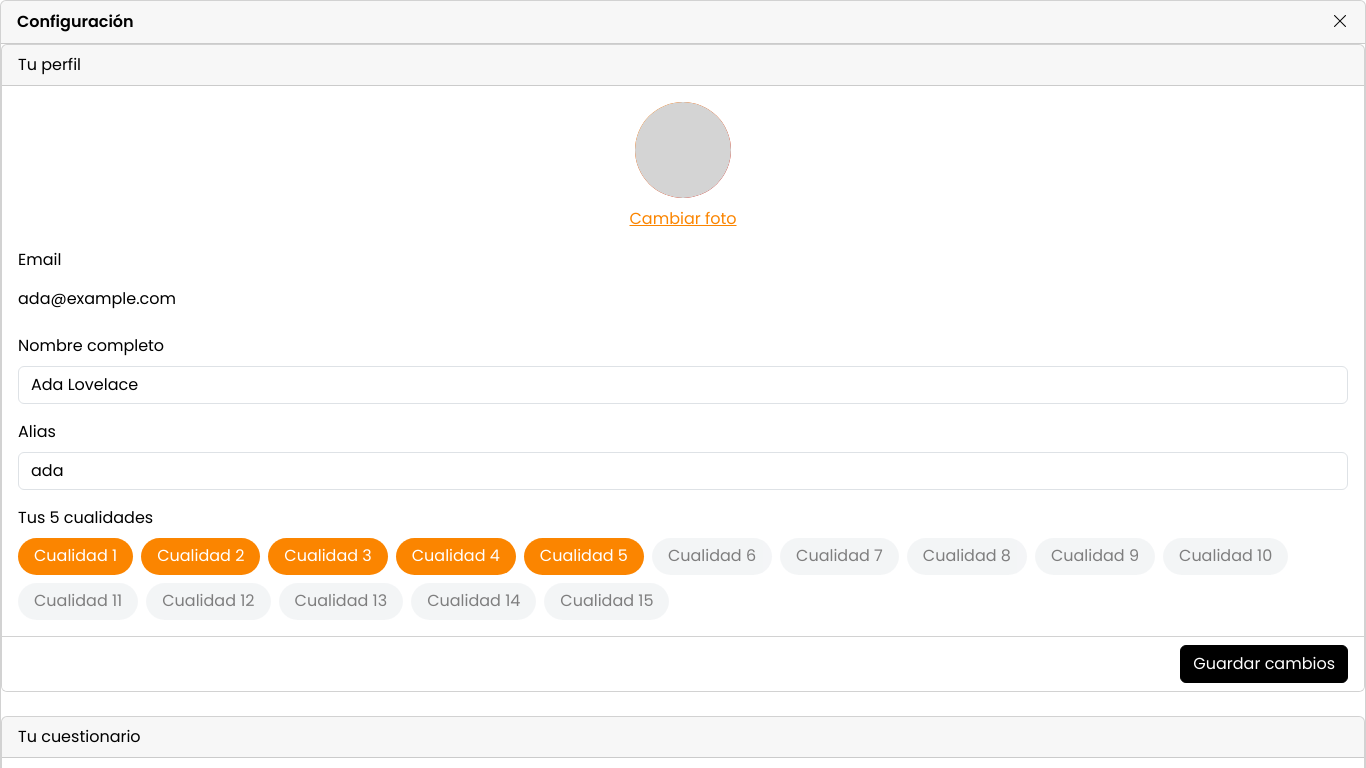
Scenario: SettingsComponent — perfil (tarea 17.1) › si el guardado devuelve 409 (alias duplicado), muestra el error y no limpia el formulario
Replace the text in the field with id "settings-name" with "Ada L." at (683, 385), box top-left (18, 366), bottom-right (1348, 404)
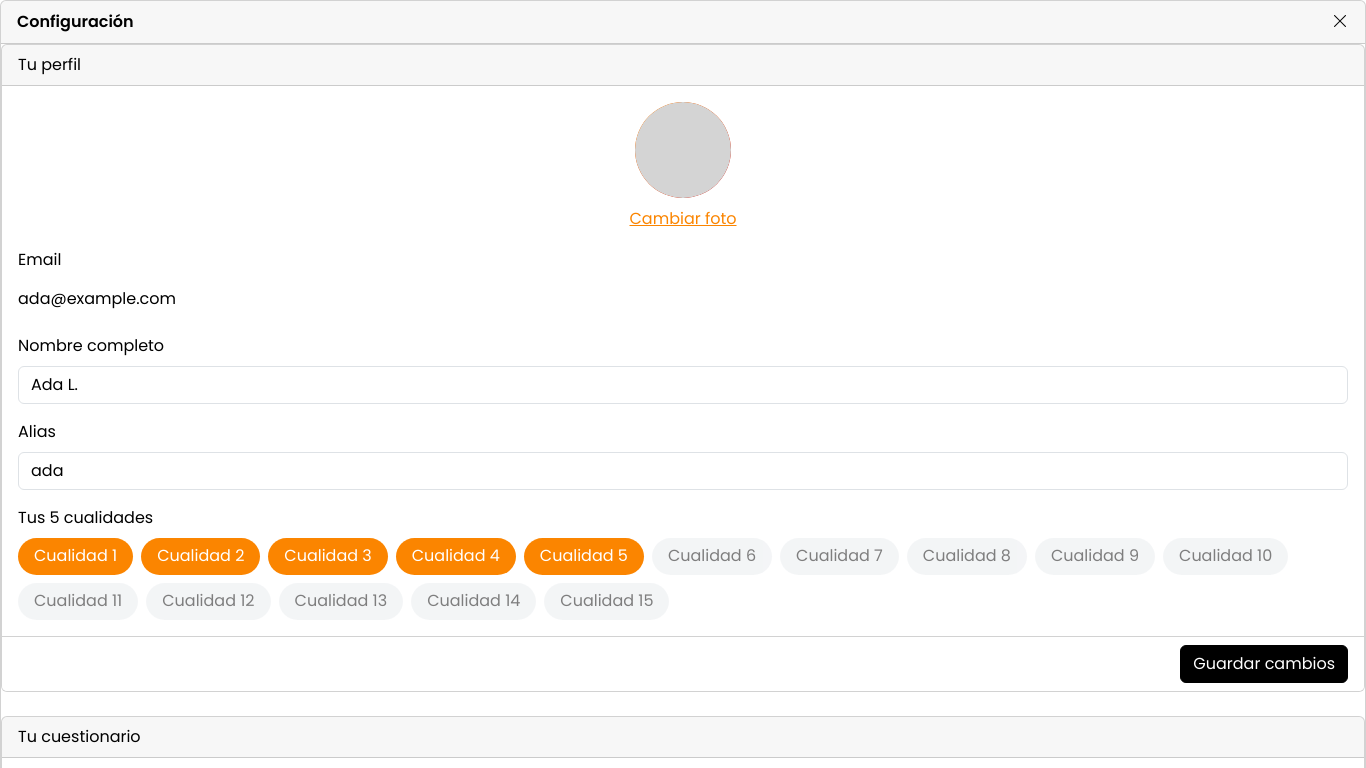
Click the button "Guardar cambios" at (1264, 664), box top-left (1180, 645), bottom-right (1348, 683)
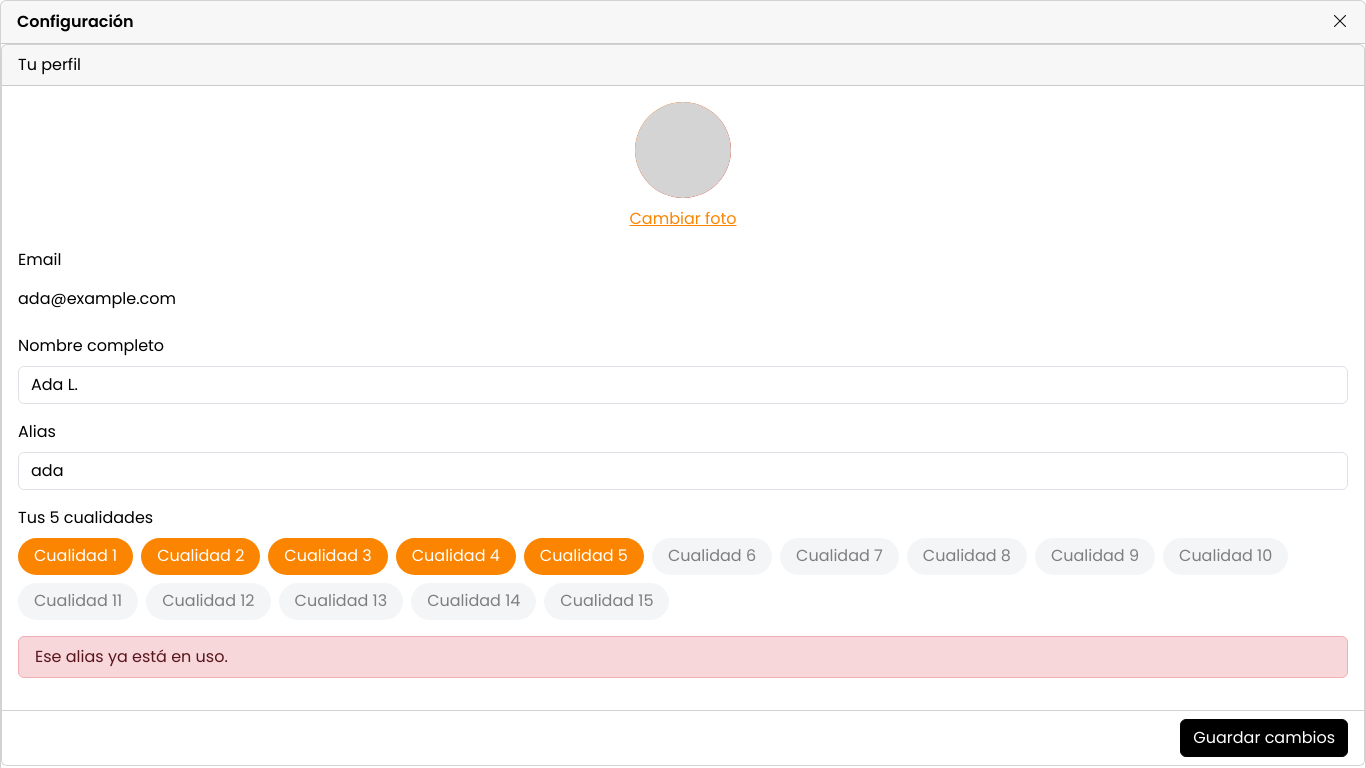
expect the message with class "alert-danger" shows "ya está en uso": met, box top-left (35, 645), bottom-right (228, 668)
